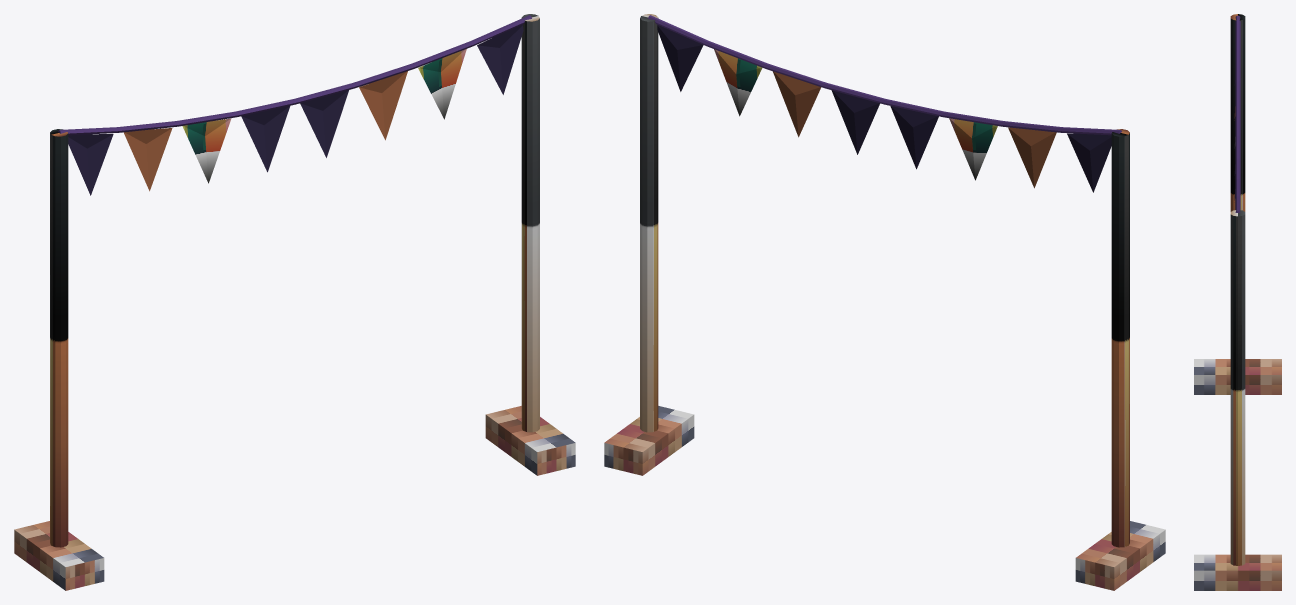
Rendered from EVHalloween_Decor_HalloweenPennant.fbx.
3 views of the same model, side by side, from view 1: azimuth 30°, elevation 25°; view 2: azimuth 150°, elevation 25°; view 3: azimuth 270°, elevation 25° (orthographic). The views are drawn at different scales.
Visible parts, largest first — view 1: EVHalloween_Decor_PumpkinOrange; view 2: EVHalloween_Decor_PumpkinOrange; view 3: EVHalloween_Decor_PumpkinOrange.
Boxes of the visible parts, bbox=[...] form: EVHalloween_Decor_PumpkinOrange: bbox=[14, 14, 575, 590]; EVHalloween_Decor_PumpkinOrange: bbox=[604, 14, 1165, 590]; EVHalloween_Decor_PumpkinOrange: bbox=[1194, 14, 1281, 590].
Bounding box in the file's own units: 496 × 406 × 86.8.
